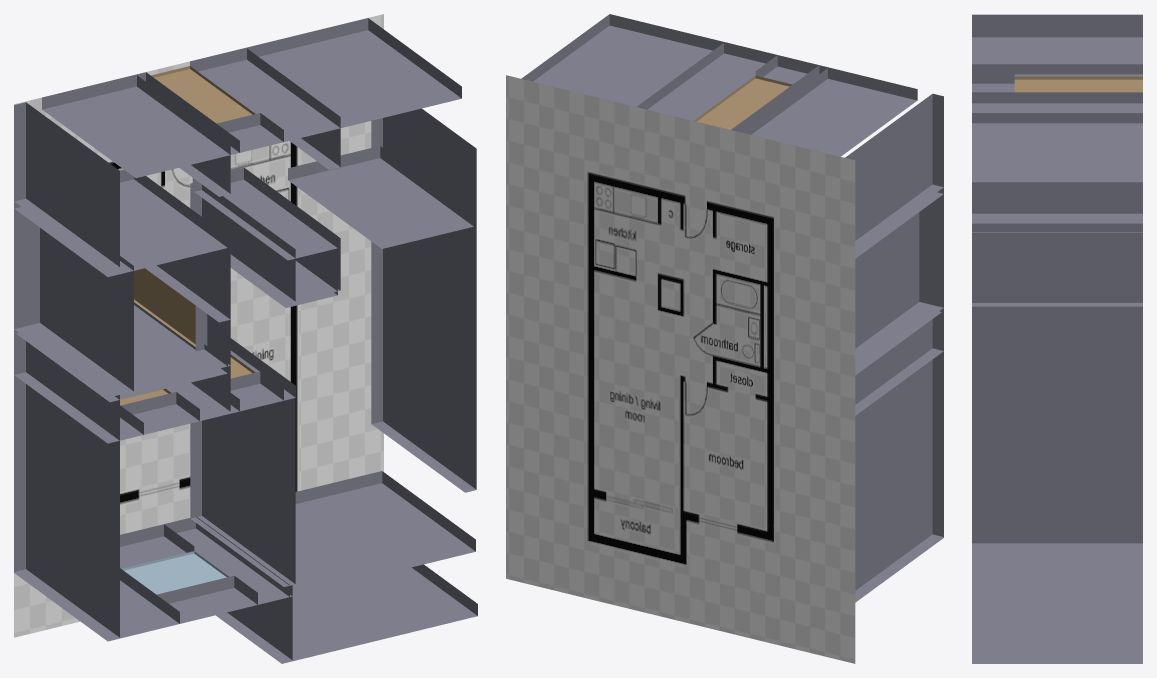
File: floorplan1.gltf
The picture shows the model from 3 angles, left to right: view 1: azimuth 30°, elevation 25°; view 2: azimuth 150°, elevation 25°; view 3: azimuth 270°, elevation 25°; orthographic projection. The views are drawn at different scales.
Visible parts, largest first — view 1: floorplan1, InteriorFloor; view 2: InteriorFloor, floorplan1; view 3: floorplan1.
Part boxes in pixels (<box>): floorplan1: <box>14,18,477,663</box>; InteriorFloor: <box>14,14,383,637</box>; InteriorFloor: <box>506,75,855,663</box>; floorplan1: <box>521,14,943,602</box>; floorplan1: <box>972,14,1142,663</box>.
Size of the model in its own units: 6.38 by 8.79 by 2.8.
Materials: 2 (1 with a texture image).
